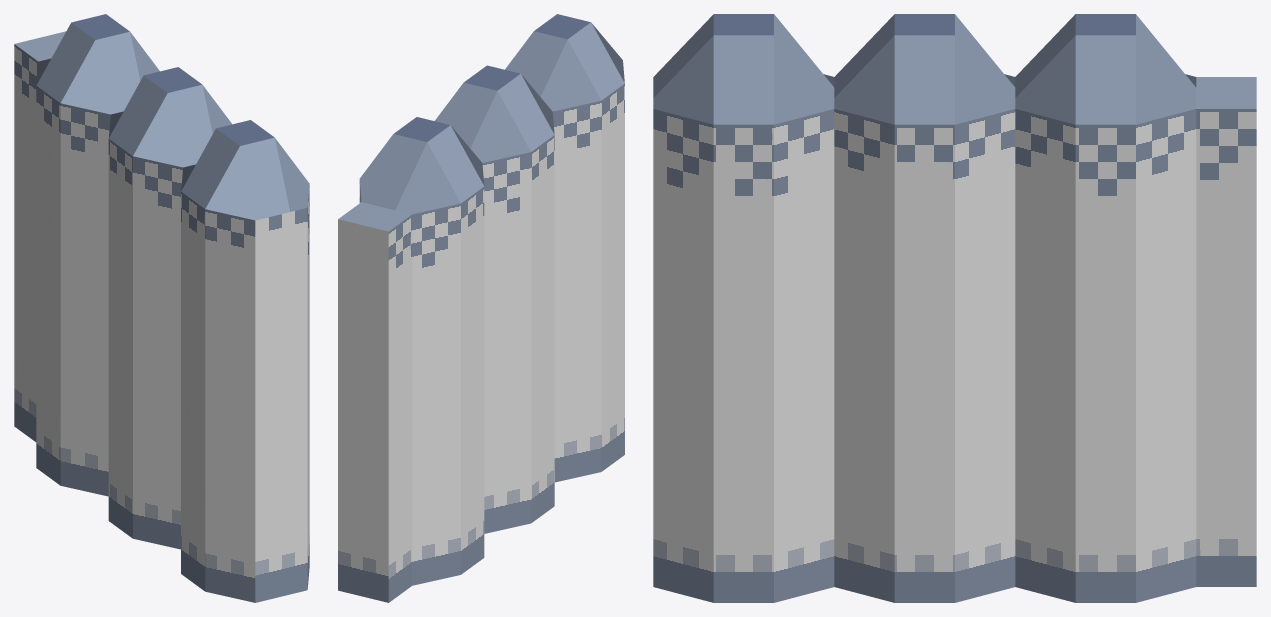
Rendered from fence.gltf.
3 views of the same model, side by side, from view 1: azimuth 30°, elevation 25°; view 2: azimuth 150°, elevation 25°; view 3: azimuth 270°, elevation 25° (orthographic). The views are drawn at different scales.
Parts seen in each view (by area): view 1: cuboid; view 2: cuboid; view 3: cuboid.
Part boxes in pixels (bbox=[...]): cuboid: bbox=[14, 14, 309, 602]; cuboid: bbox=[338, 14, 624, 602]; cuboid: bbox=[653, 14, 1256, 602].
Size of the model in its own units: 0.25 by 1 by 1.
1 material, 1 textured.
